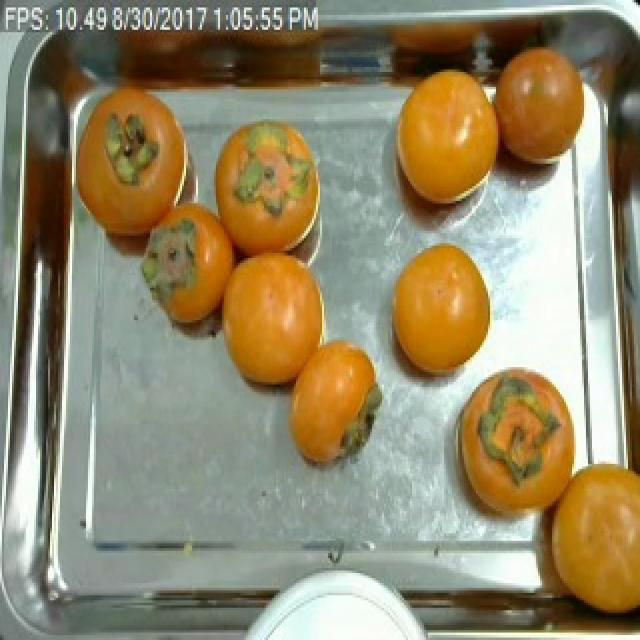Fruit: (72, 72, 206, 270), (202, 102, 336, 273), (520, 447, 640, 635), (382, 52, 510, 221), (376, 233, 502, 397), (210, 238, 332, 402), (274, 322, 394, 483), (482, 30, 592, 201), (136, 191, 246, 347)
